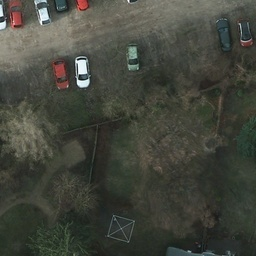car: (237, 15, 255, 49), (124, 41, 143, 73), (33, 1, 55, 27), (75, 56, 91, 90), (55, 56, 70, 91), (217, 17, 232, 50), (8, 1, 23, 28), (50, 1, 69, 14), (73, 1, 90, 11), (122, 1, 141, 5)
